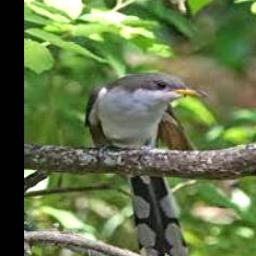Cuckoo: (84, 71, 208, 256)
